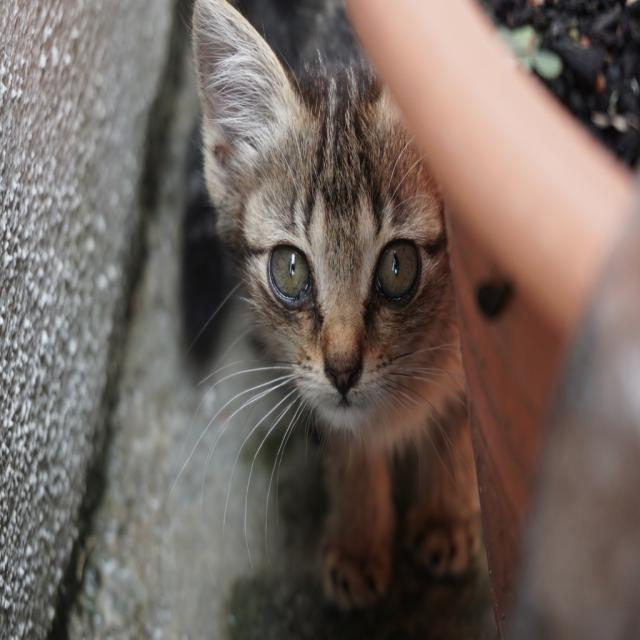Cat: (162, 1, 460, 612)
